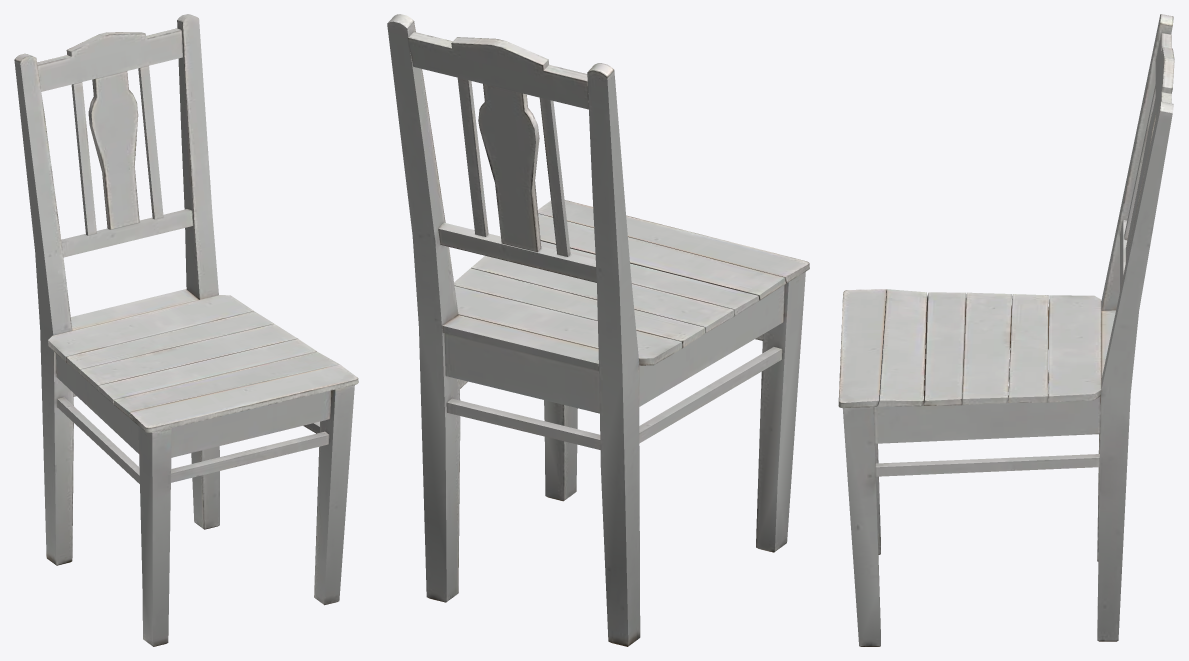
The model's file is p_chair_wood.glb.
The picture shows the model from 3 angles, left to right: view 1: azimuth 30°, elevation 25°; view 2: azimuth 150°, elevation 25°; view 3: azimuth 270°, elevation 25°; orthographic projection. The views are drawn at different scales.
Parts seen in each view (by area): view 1: painted_wooden_chair_01; view 2: painted_wooden_chair_01; view 3: painted_wooden_chair_01.
Boxes of the visible parts, left/top/right/bottom form: painted_wooden_chair_01: left=14, top=14, right=358, bottom=646; painted_wooden_chair_01: left=387, top=14, right=809, bottom=646; painted_wooden_chair_01: left=838, top=14, right=1174, bottom=646.
Bounding box in the file's own units: 0.4298 × 0.9558 × 0.5397.
Materials: 1 (1 with a texture image).
